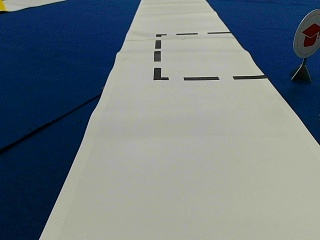school: (293, 9, 319, 57)
